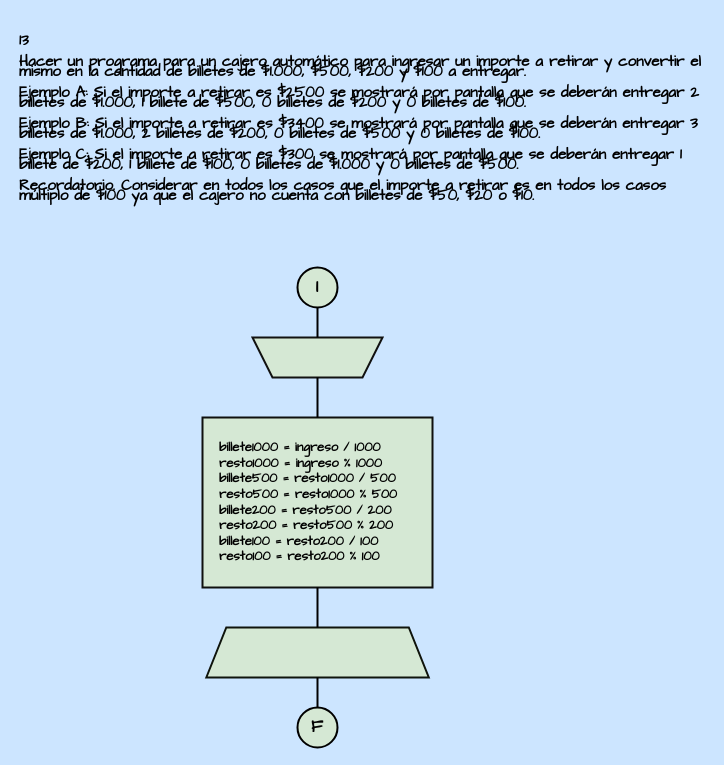
Some shapes in this 724 by 765 pixel diagram are drawn without their labels. The centre of each missing label's shape, as x and y in pixels:
billete1000, billete500, billete200, billete100: the point at 317,652
ingreso: the point at 317,357
